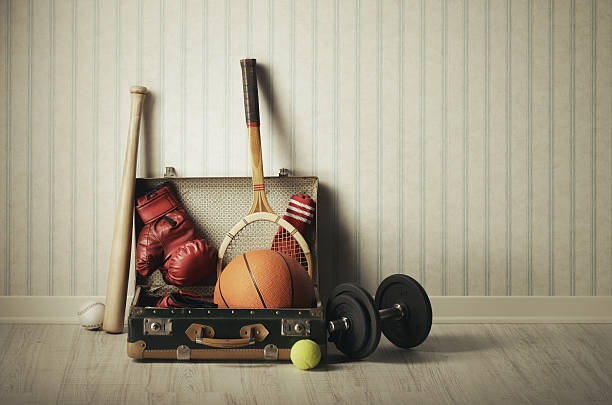bita: (100, 86, 147, 337)
